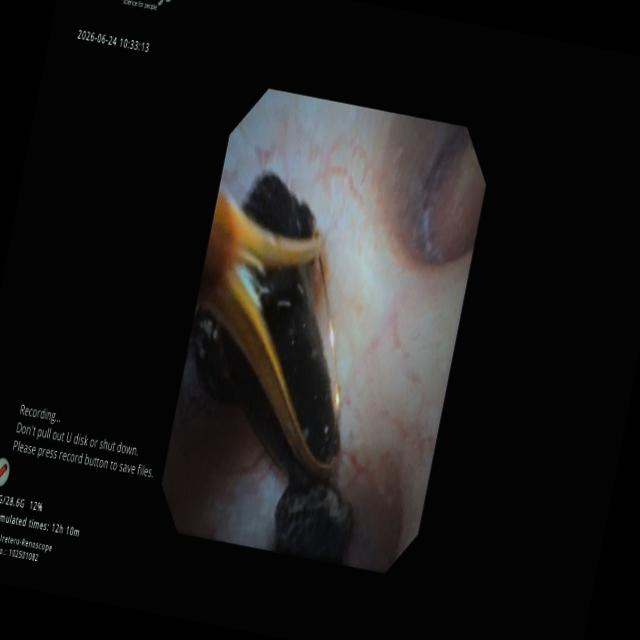stone-new: (190, 174, 340, 486), (274, 481, 353, 563)
